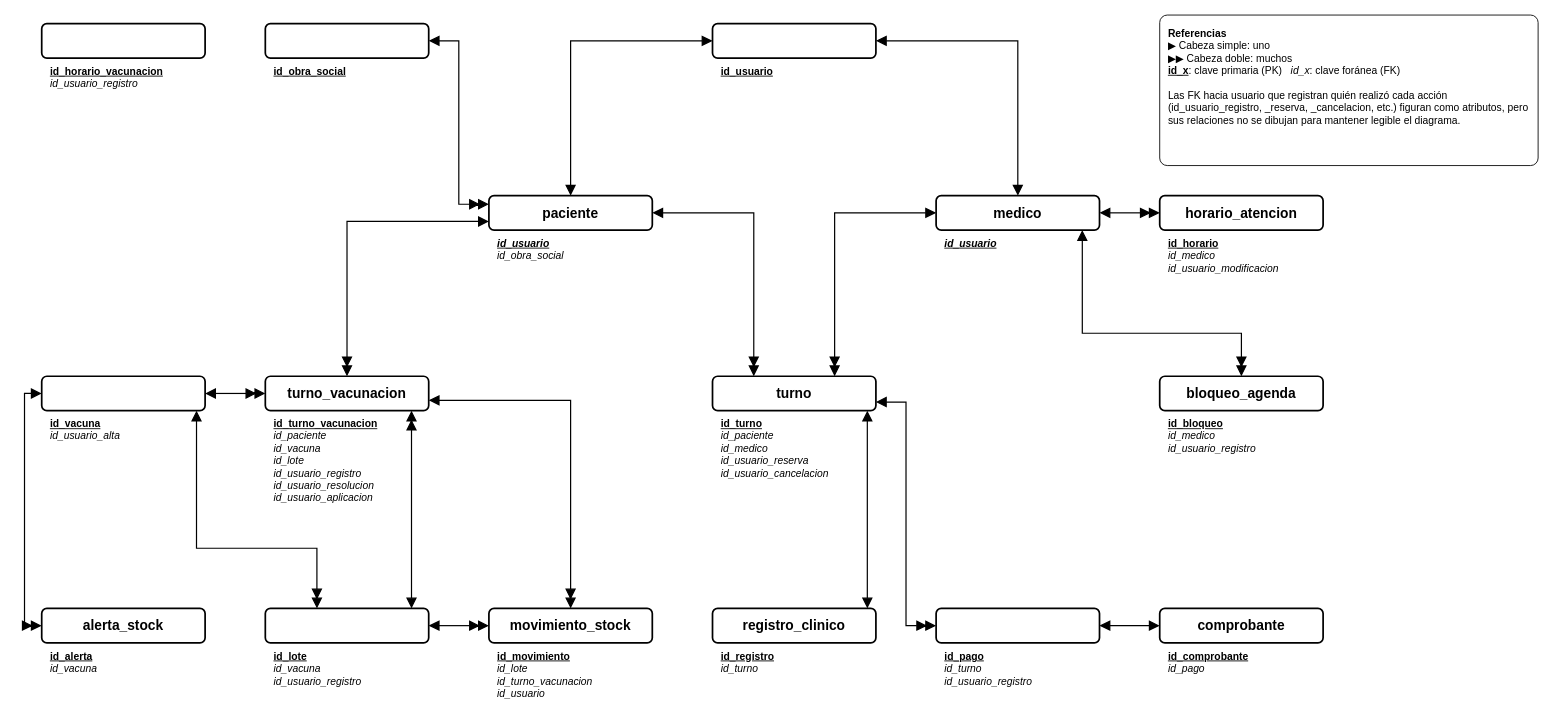
Some shapes in this 1554 by 723 pixel diagram are drawn without their labels. Here are the shapes that lost their labels. From the top down, the centre of each, then its label:
At pixel 123 40: "horario_vacunacion".
At pixel 346 40: "obra_social".
At pixel 793 40: "usuario".
At pixel 123 393: "vacuna".
At pixel 346 625: "lote".
At pixel 1017 625: "pago".
